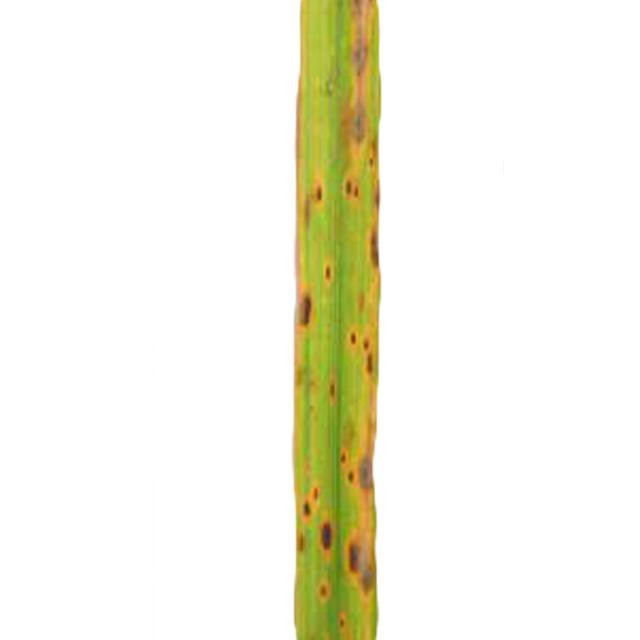Brown spot: (270, 0, 416, 640)
